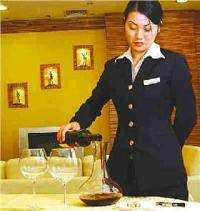person without safety: (115, 1, 192, 200)
